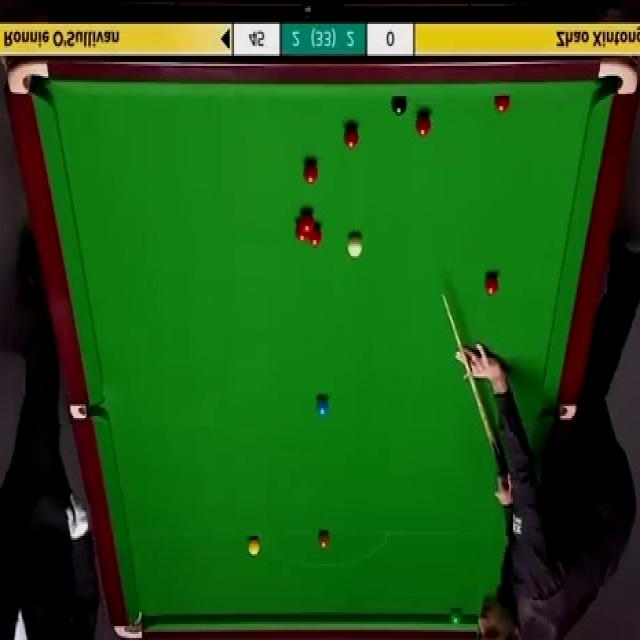pocket: (595, 57, 638, 97), (6, 60, 49, 97), (112, 611, 145, 638), (540, 403, 577, 422), (69, 404, 103, 422)
